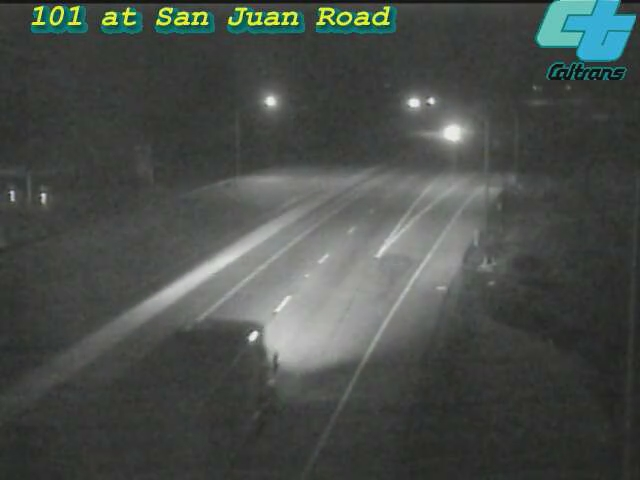vehicle: (147, 346, 257, 456), (428, 107, 478, 157)
